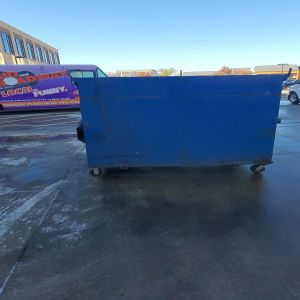Dumpster: (72, 77, 287, 180)
